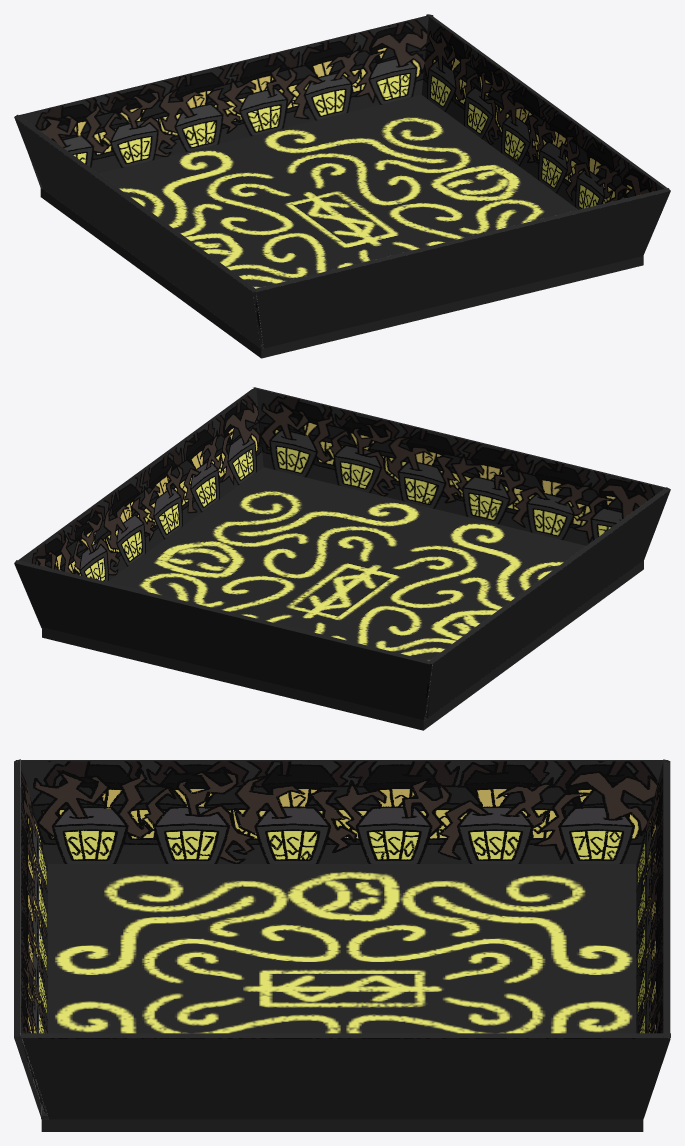
The model's file is Cenário Boss Limbo.fbx.
The picture shows the model from 3 angles, top to bottom: view 1: azimuth 30°, elevation 25°; view 2: azimuth 150°, elevation 25°; view 3: azimuth 270°, elevation 25°; orthographic projection. The views are drawn at different scales.
Visible parts, largest first — view 1: Piso, Parede, Parede.001, Parede.002, Parede.003; view 2: Piso, Parede.001, Parede, Parede.002, Parede.003; view 3: Piso, Parede.003, Parede.002, Parede.001, Parede.
Boxes of the visible parts, left/top/right/bottom form: Piso: left=40, top=95, right=643, bottom=358; Parede: left=15, top=15, right=433, bottom=188; Parede.001: left=252, top=188, right=670, bottom=348; Parede.002: left=421, top=14, right=666, bottom=209; Parede.003: left=14, top=114, right=262, bottom=349; Piso: left=42, top=467, right=643, bottom=730; Parede.001: left=253, top=387, right=668, bottom=545; Parede: left=14, top=560, right=432, bottom=720; Parede.002: left=14, top=389, right=263, bottom=628; Parede.003: left=423, top=487, right=670, bottom=721; Piso: left=41, top=864, right=643, bottom=1131; Parede.003: left=15, top=760, right=669, bottom=863; Parede.002: left=20, top=1033, right=670, bottom=1119; Parede.001: left=14, top=759, right=48, bottom=1118; Parede: left=636, top=759, right=670, bottom=1038.
Bounding box in the file's own units: 1858 × 335 × 1856.
Materials: 5 (5 with a texture image).
